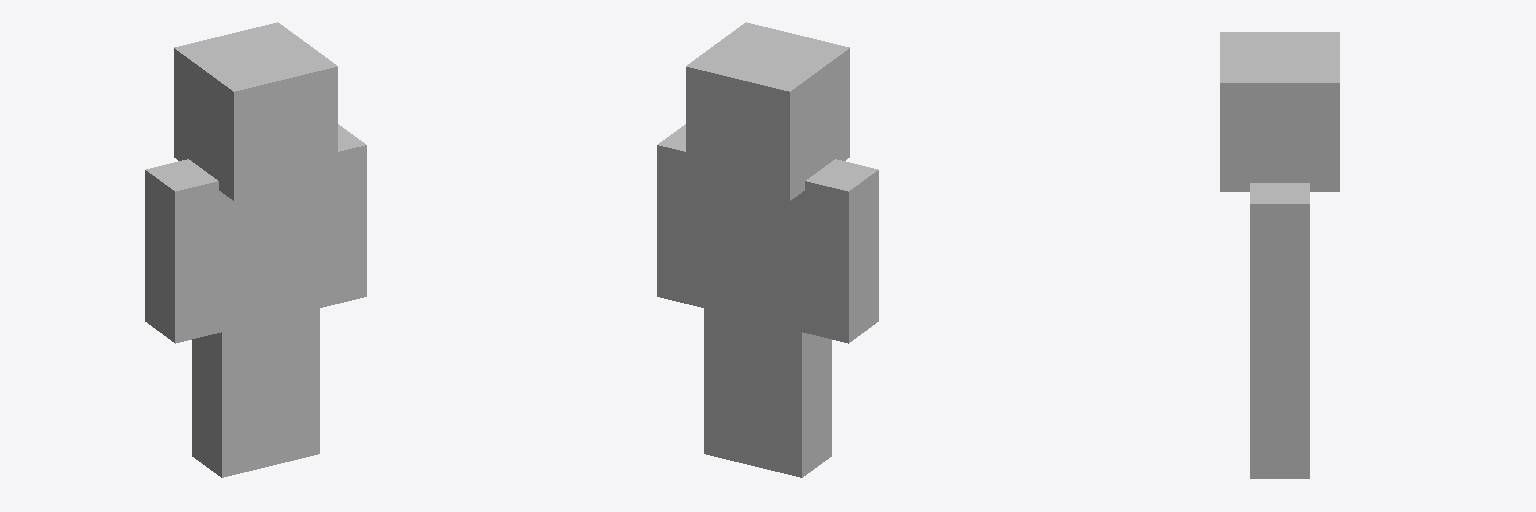
File: police_guard.obj
3 views of the same model, side by side, from view 1: azimuth 30°, elevation 25°; view 2: azimuth 150°, elevation 25°; view 3: azimuth 270°, elevation 25° (orthographic).
Visible parts, largest first — view 1: headwear, left_sleve, jacket, left_pants, right_sleeve, right_pants; view 2: headwear, left_sleve, jacket, left_pants, right_pants, right_sleeve; view 3: headwear, right_sleeve, right_pants.
Boxes of the visible parts, box(x1,y1,x2,y2) form: headwear: box(174, 22, 337, 200); left_sleve: box(145, 159, 227, 343); jacket: box(222, 180, 319, 330); left_pants: box(192, 315, 273, 477); right_sleeve: box(315, 124, 366, 308); right_pants: box(268, 304, 319, 466); headwear: box(686, 22, 849, 200); left_sleve: box(796, 159, 878, 343); jacket: box(704, 181, 801, 330); left_pants: box(750, 315, 831, 477); right_pants: box(704, 305, 755, 466); right_sleeve: box(657, 124, 708, 308); headwear: box(1220, 32, 1339, 191); right_sleeve: box(1250, 183, 1309, 355); right_pants: box(1250, 356, 1309, 478).
Bounding box in the file's own units: 1.03 × 2.05 × 0.5625.